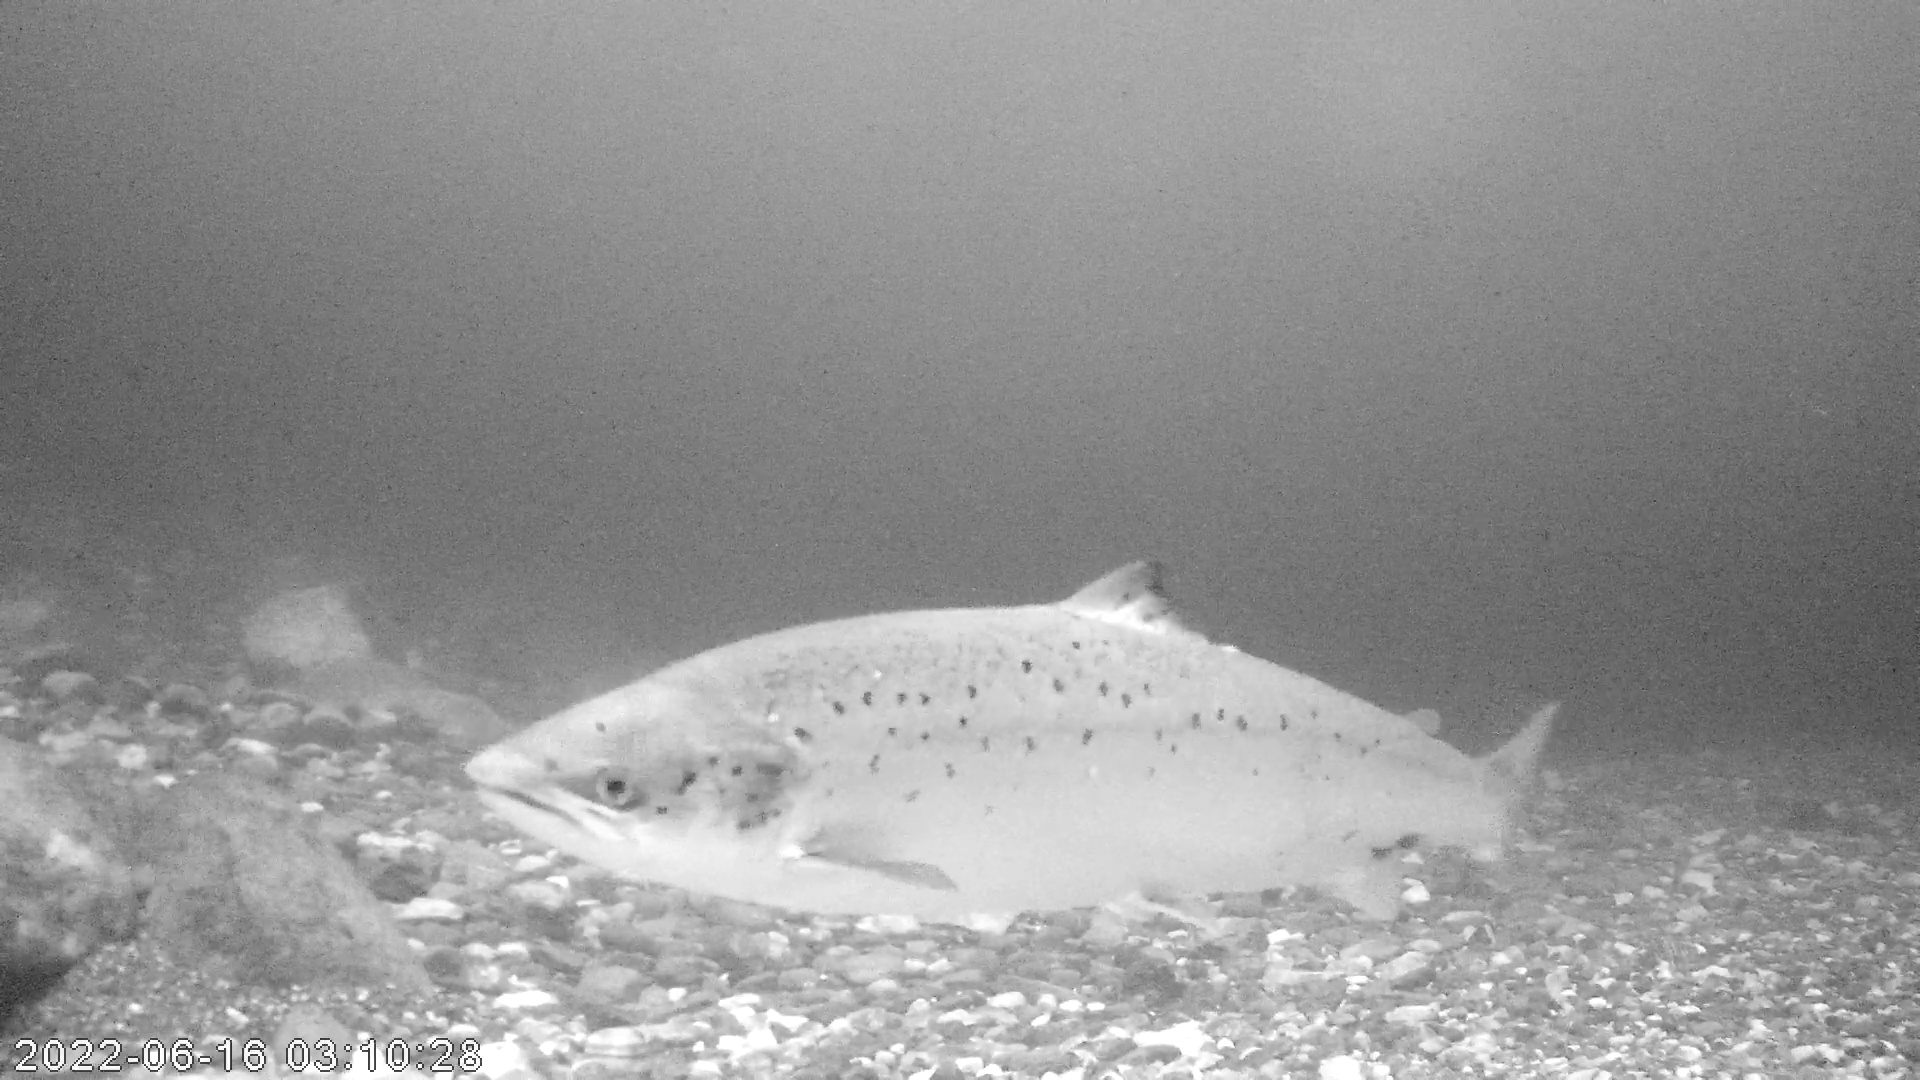salmon: (463, 555, 1565, 924)
